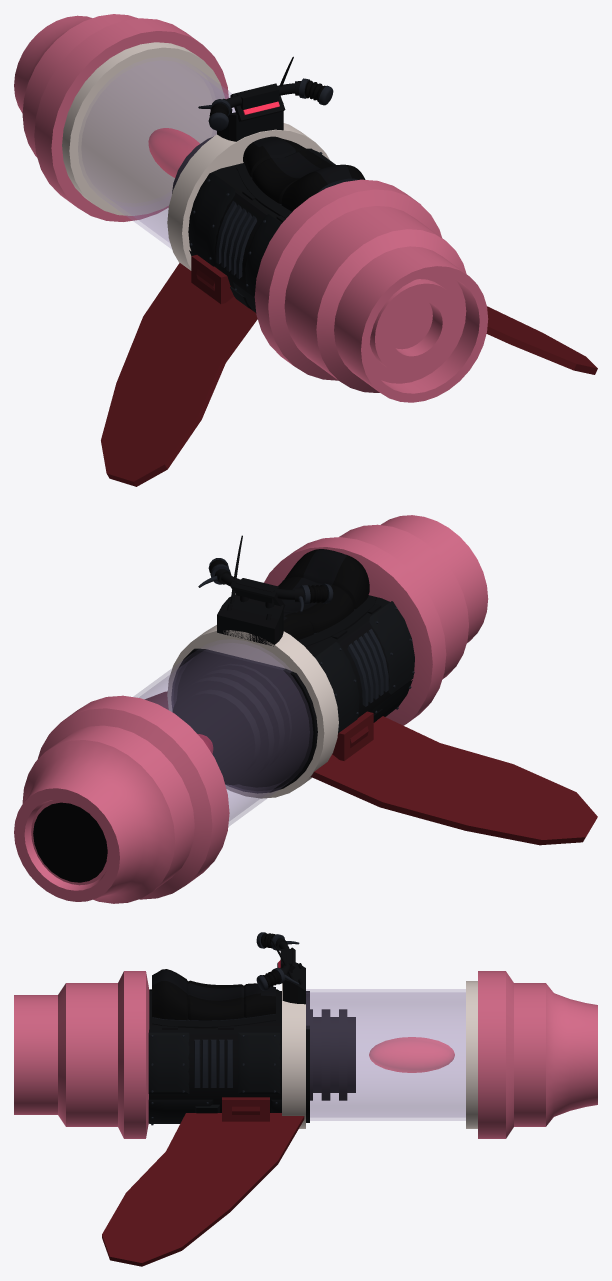
The model's file is hoverbike.obj.
3 renders of one model, top to bottom at view 1: azimuth 30°, elevation 25°; view 2: azimuth 150°, elevation 25°; view 3: azimuth 270°, elevation 25°, orthographic. The views are drawn at different scales.
Parts seen in each view (by area): view 1: HB_CapRear, HB_Fins, HB_CollarFront, HB_CoreGlass, HB_CapFront, HB_Saddle, HB_CollarRear, HB_ChassisPlating, HB_Chassis, HB_ChassisVents, HB_Console, HB_EnergyCell (+3 smaller); view 2: HB_CapFront, HB_Fins, HB_CoreGlass, HB_CapRear, HB_EngineModule, HB_Chassis, HB_CollarRear, HB_Saddle, HB_ChassisPlating, HB_SensorLens, HB_Console, HB_ChassisVents (+3 smaller); view 3: HB_CoreGlass, HB_CapRear, HB_Fins, HB_CapFront, HB_ChassisPlating, HB_Saddle, HB_Chassis, HB_EngineModule, HB_CollarRear, HB_EnergyCell, HB_CollarFront, HB_ChassisVents (+3 smaller).
Boxes of the visible parts, <box> form: HB_CapRear: <box>254,179,488,402</box>; HB_Fins: <box>101,255,597,486</box>; HB_CollarFront: <box>62,42,224,215</box>; HB_CoreGlass: <box>78,57,235,248</box>; HB_CapFront: <box>14,14,228,221</box>; HB_Saddle: <box>243,136,365,211</box>; HB_CollarRear: <box>167,123,329,270</box>; HB_ChassisPlating: <box>189,150,335,313</box>; HB_Chassis: <box>188,148,334,297</box>; HB_ChassisVents: <box>216,201,256,278</box>; HB_Console: <box>217,83,285,141</box>; HB_EnergyCell: <box>148,128,199,177</box>; HB_CapFront: <box>14,695,229,903</box>; HB_Fins: <box>145,691,597,845</box>; HB_CoreGlass: <box>133,640,312,826</box>; HB_CapRear: <box>264,515,488,725</box>; HB_EngineModule: <box>172,663,291,785</box>; HB_Chassis: <box>171,595,411,793</box>; HB_CollarRear: <box>167,625,338,798</box>; HB_Saddle: <box>278,549,369,640</box>; HB_ChassisPlating: <box>315,601,414,733</box>; HB_SensorLens: <box>33,802,107,882</box>; HB_Console: <box>217,581,285,646</box>; HB_ChassisVents: <box>347,629,388,706</box>; HB_CoreGlass: <box>306,989,465,1120</box>; HB_CapRear: <box>14,971,149,1138</box>; HB_Fins: <box>102,1097,304,1266</box>; HB_CapFront: <box>478,971,597,1138</box>; HB_ChassisPlating: <box>148,989,281,1123</box>; HB_Saddle: <box>152,969,275,1020</box>; HB_Chassis: <box>149,991,309,1122</box>; HB_EngineModule: <box>310,1009,355,1100</box>; HB_CollarRear: <box>282,983,305,1128</box>; HB_EnergyCell: <box>369,1037,454,1072</box>; HB_CollarFront: <box>466,981,477,1128</box>; HB_ChassisVents: <box>194,1039,232,1087</box>.
Bounding box in the file's own units: 1.13 × 0.6766 × 1.46.
